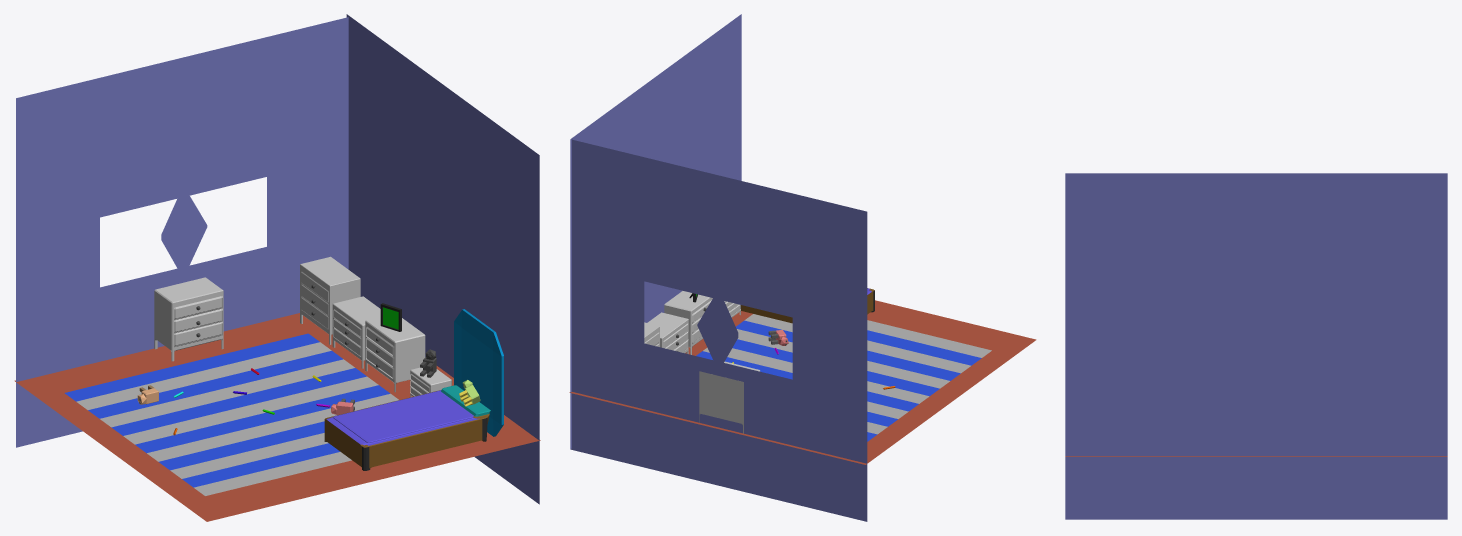
File: BedroomMainMenu.fbx
The picture shows the model from 3 angles, left to right: view 1: azimuth 30°, elevation 25°; view 2: azimuth 150°, elevation 25°; view 3: azimuth 270°, elevation 25°; orthographic projection. The views are drawn at different scales.
Visible parts, largest first — view 1: Plane.001; view 2: Plane.001; view 3: Plane.001.
Boxes of the visible parts, left/top/right/bottom form: Plane.001: left=14, top=14, right=540, bottom=521; Plane.001: left=569, top=14, right=1036, bottom=521; Plane.001: left=1065, top=173, right=1447, bottom=519.
Size of the model in its own units: 1600 by 1608 by 1600.
